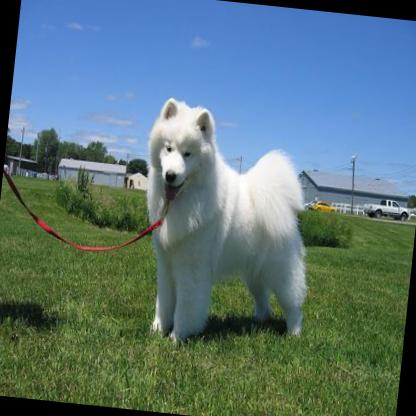Samoyed: (126, 93, 330, 354)
